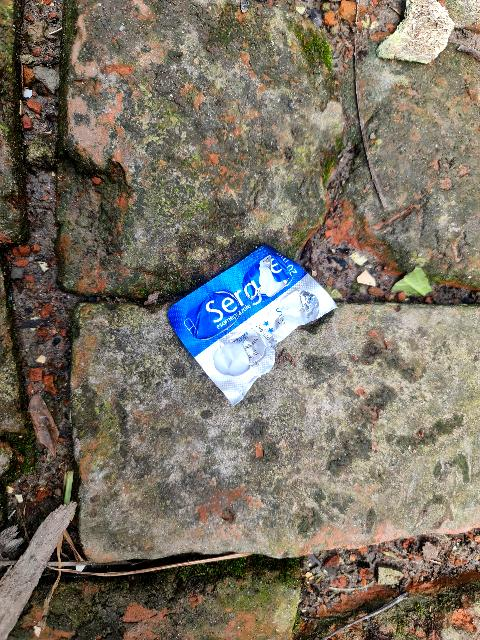medicine: (132, 194, 363, 423)
